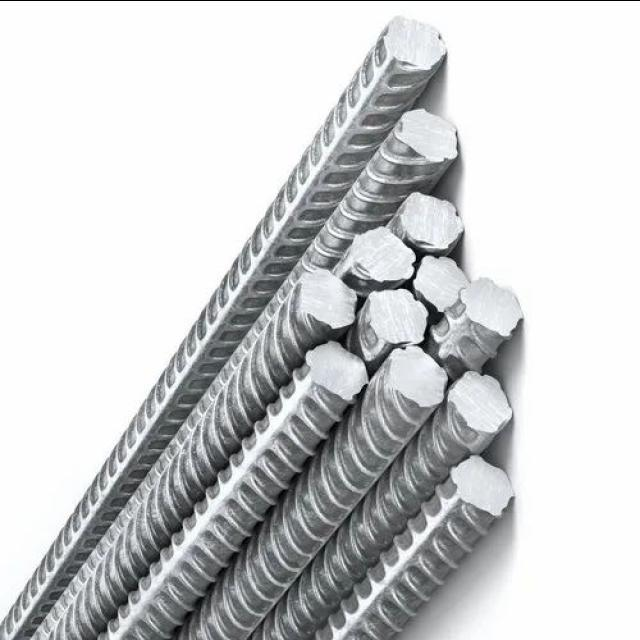Rebar: (460, 275, 528, 342), (343, 221, 413, 285), (296, 266, 356, 340), (383, 14, 456, 74), (447, 455, 515, 517), (410, 245, 469, 315), (398, 194, 464, 254), (360, 291, 428, 348), (447, 376, 517, 430), (388, 347, 446, 411), (399, 107, 463, 163), (306, 344, 364, 400)
